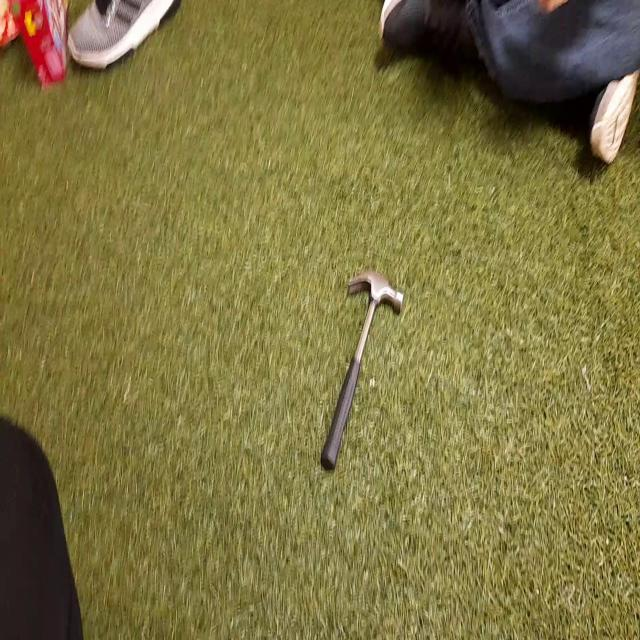hammer: (321, 271, 404, 471)
